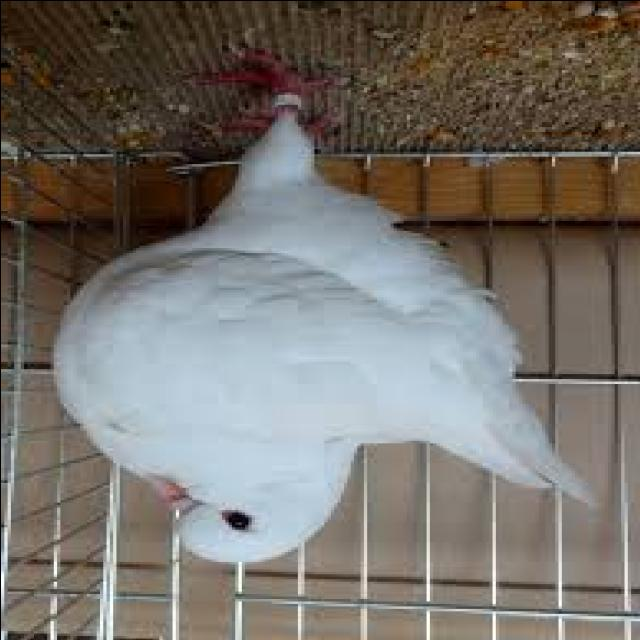pigeon: (0, 68, 589, 584)
